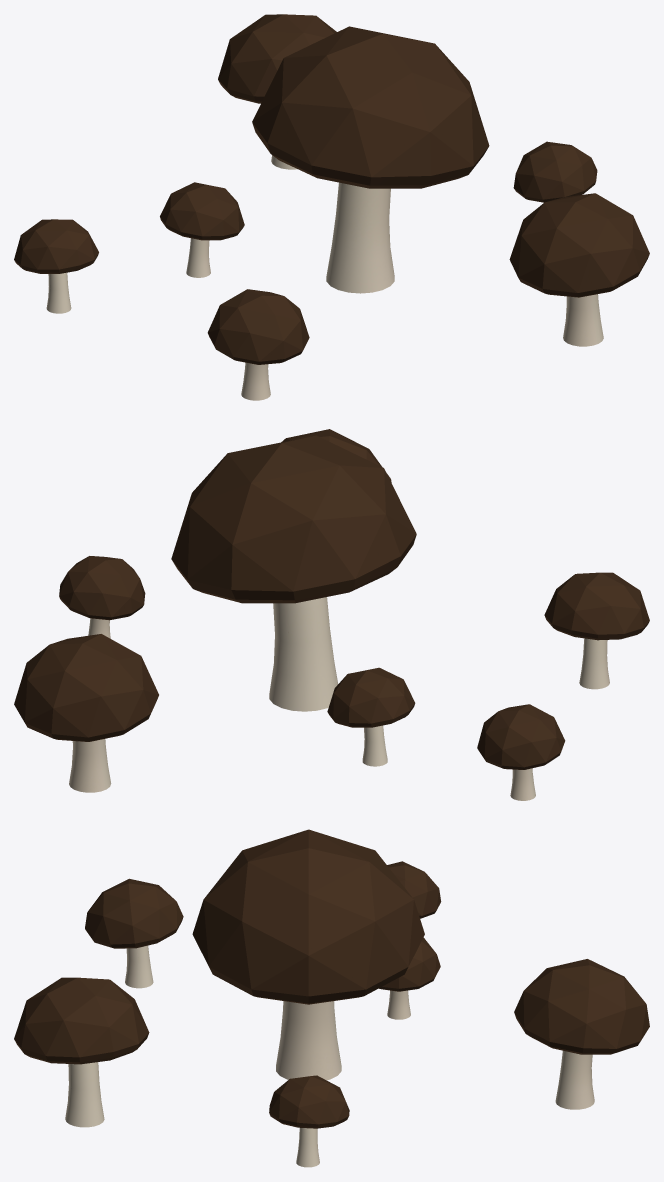
File: Mushroom.fbx
The picture shows the model from 3 angles, top to bottom: view 1: azimuth 30°, elevation 25°; view 2: azimuth 150°, elevation 25°; view 3: azimuth 270°, elevation 25°; orthographic projection. The views are drawn at different scales.
Visible parts, largest first — view 1: Muchomor; view 2: Muchomor; view 3: Muchomor.
Part boxes in pixels (x1,y1,x2,y2): Muchomor: [14, 14, 649, 400]; Muchomor: [14, 429, 649, 800]; Muchomor: [14, 829, 649, 1167].
Size of the model in its own units: 72.17 by 32.01 by 78.49.
2 materials, 2 textured.
